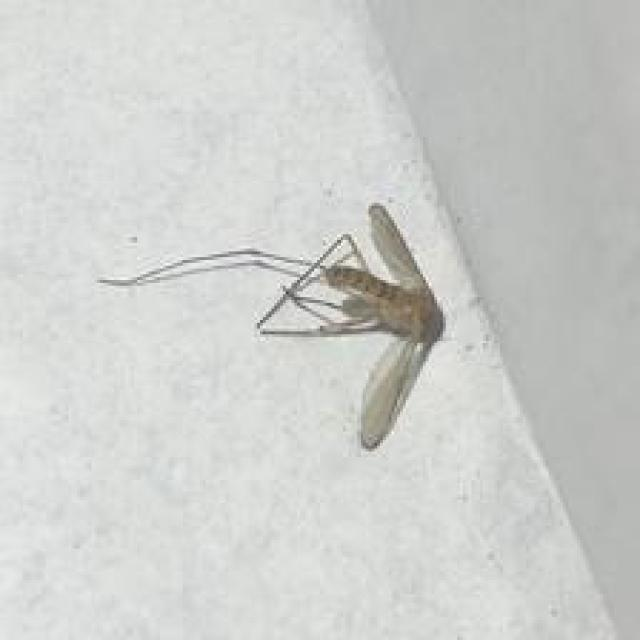Culex: (97, 200, 446, 451)
